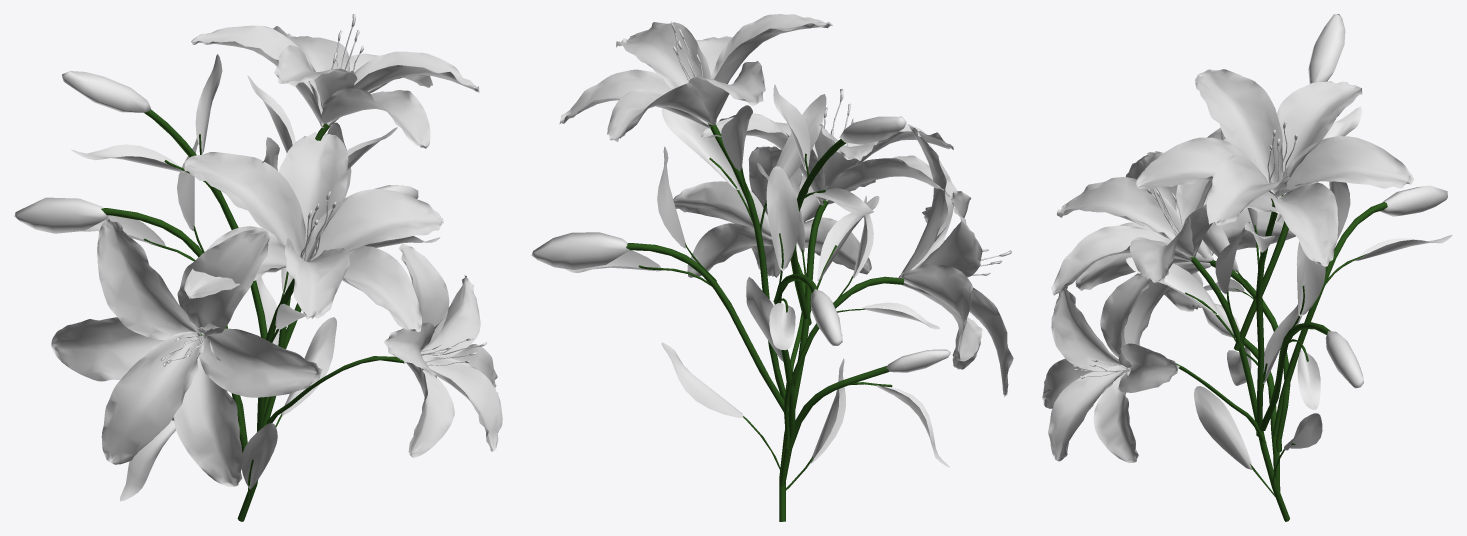
File: lilies-sf.fbx
3 views of the same model, side by side, from view 1: azimuth 30°, elevation 25°; view 2: azimuth 150°, elevation 25°; view 3: azimuth 270°, elevation 25° (orthographic). The views are drawn at different scales.
Visible parts, largest first — view 1: Plane.066; view 2: Plane.066; view 3: Plane.066.
Boxes of the visible parts, <box> form: Plane.066: <box>14,14,502,521</box>; Plane.066: <box>531,14,1013,521</box>; Plane.066: <box>1042,14,1452,521</box>.
Bounding box in the file's own units: 5013 × 5745 × 4707.
